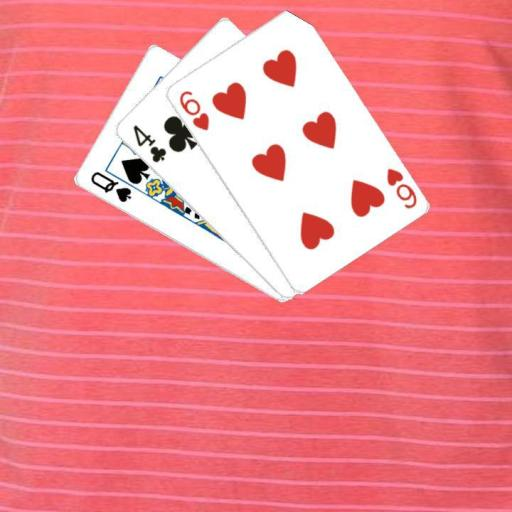4C: (129, 122, 168, 164)
6H: (175, 87, 210, 132), (383, 165, 418, 210)
QS: (87, 168, 133, 204)
